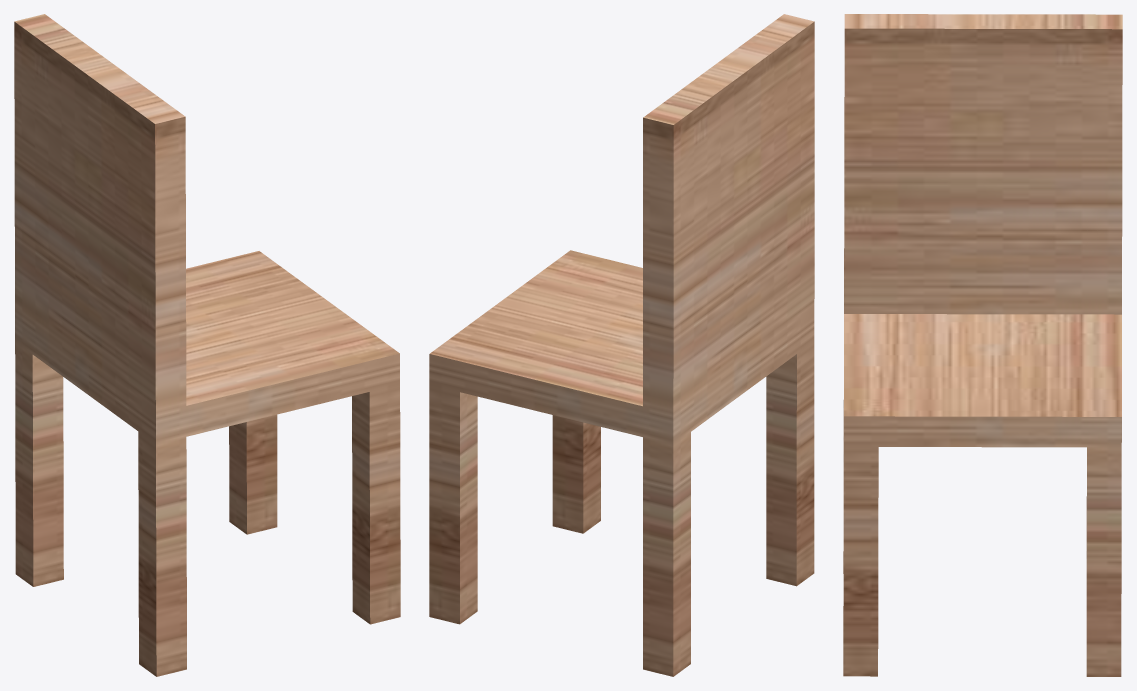
File: silla.obj
The picture shows the model from 3 angles, left to right: view 1: azimuth 30°, elevation 25°; view 2: azimuth 150°, elevation 25°; view 3: azimuth 270°, elevation 25°; orthographic projection.
Parts seen in each view (by area): view 1: Cube; view 2: Cube; view 3: Cube.
Part boxes in pixels (x1,y1,x2,y2): Cube: (14, 14, 400, 676); Cube: (429, 14, 814, 676); Cube: (843, 14, 1122, 676).
Size of the model in its own units: 2.01 by 4.33 by 2.01.
Materials: 1 (1 with a texture image).
